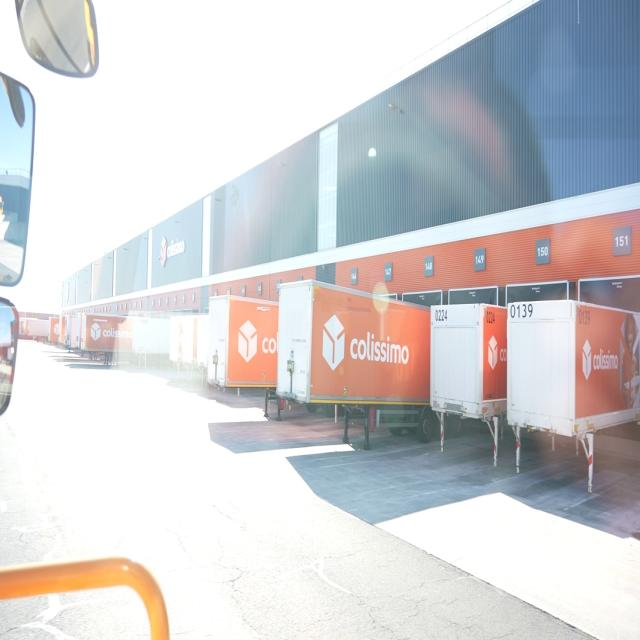Code: (508, 301, 534, 324), (429, 306, 449, 325), (577, 306, 592, 328), (482, 306, 497, 328)
